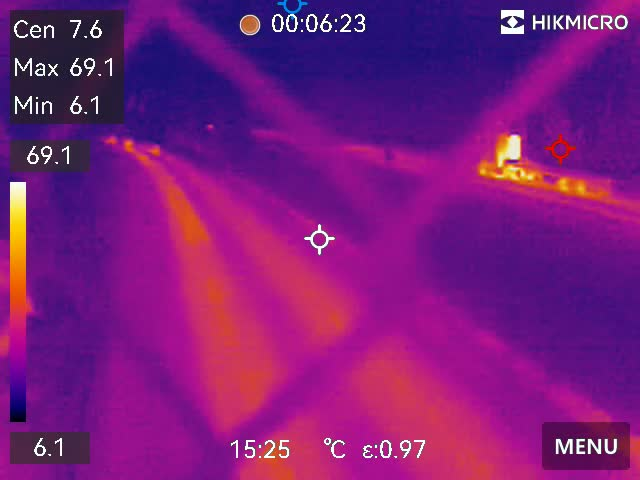heavyTruck: (474, 127, 621, 202)
